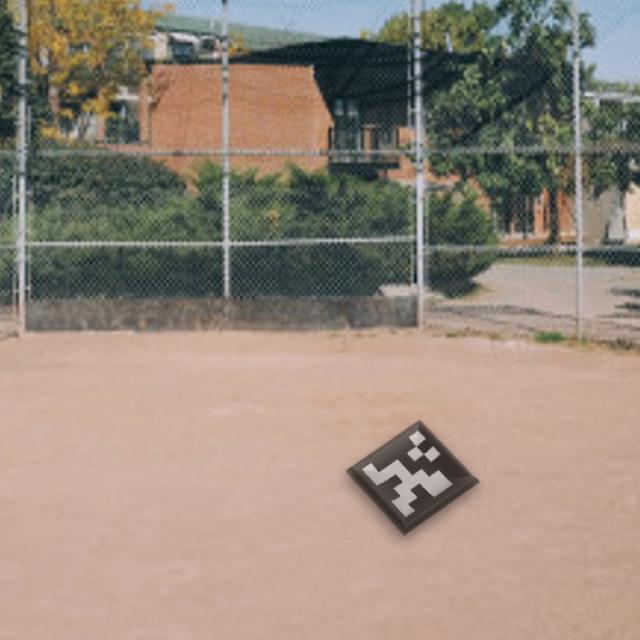marker: (338, 410, 492, 542)
